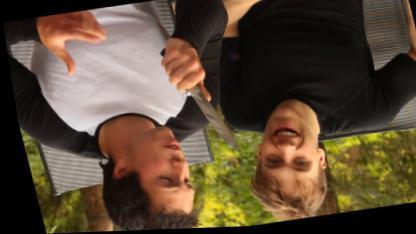knife: (156, 53, 240, 167)
